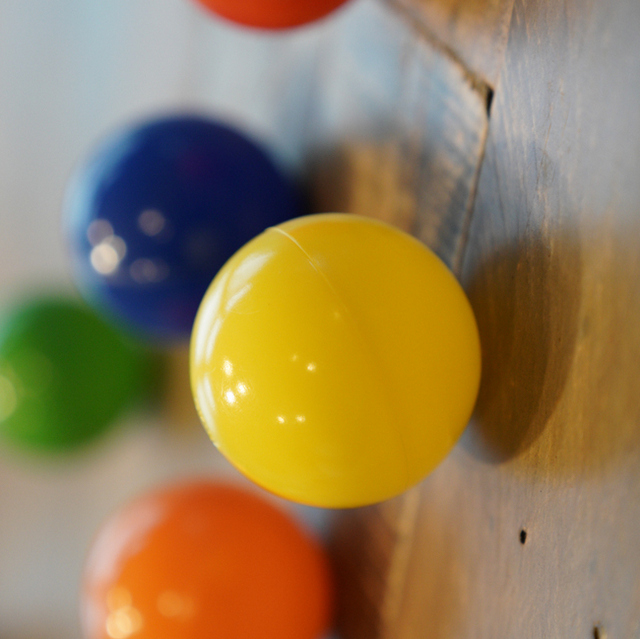Ball: (188, 211, 480, 503)
